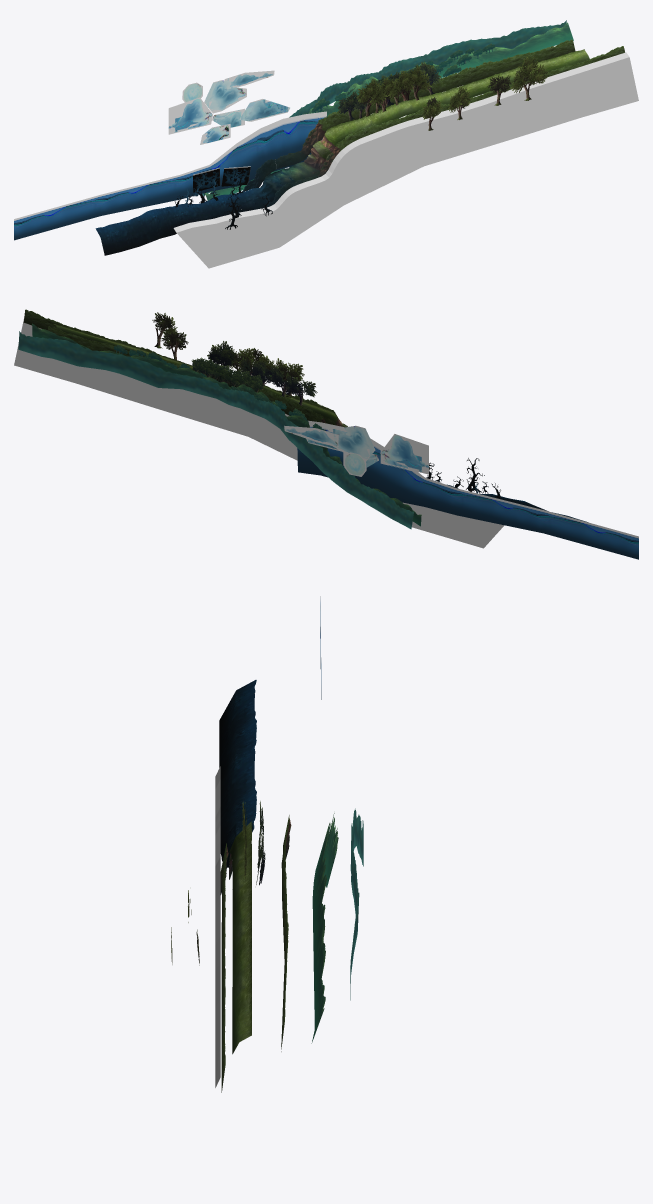
File: Intro Landscape.FBX
3 views of the same model, one above another, from view 1: azimuth 30°, elevation 25°; view 2: azimuth 150°, elevation 25°; view 3: azimuth 270°, elevation 25° (orthographic). The views are drawn at different scales.
Parts seen in each view (by area): view 1: Intro Black, INTRO Horizon, INTRO Grass, Moon Clouds, Dark Forest Fog Part 2, INTRO Grass To Dark BG, INTRO Dark, Dark Forest Fog Part 1, INTRO Trees FG, INTRO Grass To Dark FG, INTRO Trees, INTRO Trees BG (+1 smaller); view 2: INTRO Horizon, Intro Black, Dark Forest Fog Part 2, Moon Clouds, Dark Forest Fog Part 1, INTRO Trees BG, INTRO Grass, INTRO Grass To Dark BG, INTRO Tree Group, INTRO Trees FG, INTRO Trees, INTRO Grass To Dark FG; view 3: INTRO Dark, INTRO Grass, INTRO Horizon, Intro Black, INTRO Grass To Dark FG, INTRO Grass To Dark BG.
Boxes of the visible parts, x1,y1,x2,y2 form: Intro Black: [173, 52, 638, 268]; INTRO Horizon: [202, 20, 573, 200]; INTRO Grass: [234, 49, 589, 211]; Moon Clouds: [168, 70, 289, 144]; Dark Forest Fog Part 2: [14, 165, 209, 240]; INTRO Grass To Dark BG: [242, 39, 575, 191]; INTRO Dark: [95, 194, 241, 255]; Dark Forest Fog Part 1: [209, 111, 326, 191]; INTRO Trees FG: [421, 56, 548, 130]; INTRO Grass To Dark FG: [264, 46, 624, 207]; INTRO Trees: [356, 66, 431, 116]; INTRO Trees BG: [337, 61, 441, 120]; INTRO Horizon: [18, 323, 421, 529]; Intro Black: [14, 318, 504, 548]; Dark Forest Fog Part 2: [425, 477, 638, 559]; Moon Clouds: [284, 425, 428, 476]; Dark Forest Fog Part 1: [297, 420, 424, 506]; INTRO Trees BG: [207, 341, 317, 405]; INTRO Grass: [53, 323, 347, 427]; INTRO Grass To Dark BG: [48, 326, 325, 423]; INTRO Tree Group: [191, 357, 264, 392]; INTRO Trees FG: [152, 312, 267, 368]; INTRO Trees: [228, 348, 304, 397]; INTRO Grass To Dark FG: [23, 309, 337, 425]; INTRO Dark: [219, 680, 256, 842]; INTRO Grass: [220, 813, 256, 1054]; INTRO Horizon: [311, 808, 363, 1043]; Intro Black: [215, 766, 220, 1087]; INTRO Grass To Dark FG: [220, 843, 228, 1092]; INTRO Grass To Dark BG: [281, 815, 291, 1051].
Size of what is drawn, in the model's own units: 16109 by 3642 by 3772.
